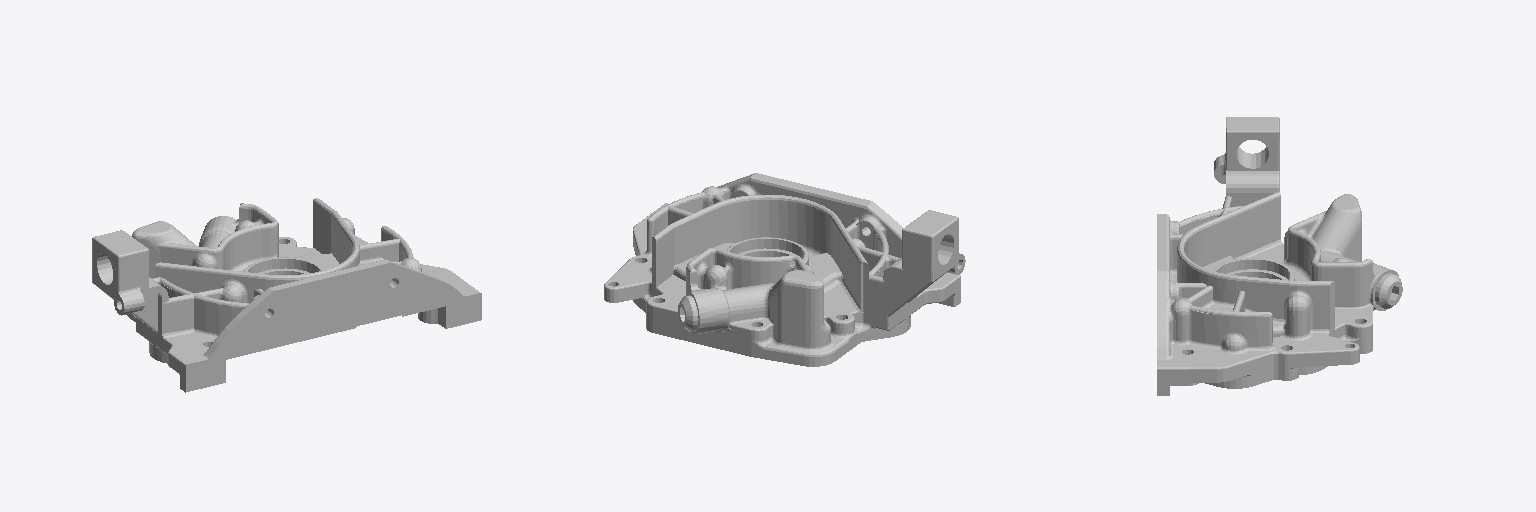
File: Масляный насос.obj
3 views of the same model, side by side, from view 1: azimuth 30°, elevation 25°; view 2: azimuth 150°, elevation 25°; view 3: azimuth 270°, elevation 25° (orthographic).
Parts seen in each view (by area): view 1: Масляный_насос; view 2: Масляный_насос; view 3: Масляный_насос.
Part boxes in pixels (bbox=[...]): Масляный_насос: bbox=[92, 198, 481, 392]; Масляный_насос: bbox=[604, 173, 965, 366]; Масляный_насос: bbox=[1157, 117, 1402, 395].
Bounding box in the file's own units: 211 × 73 × 136.